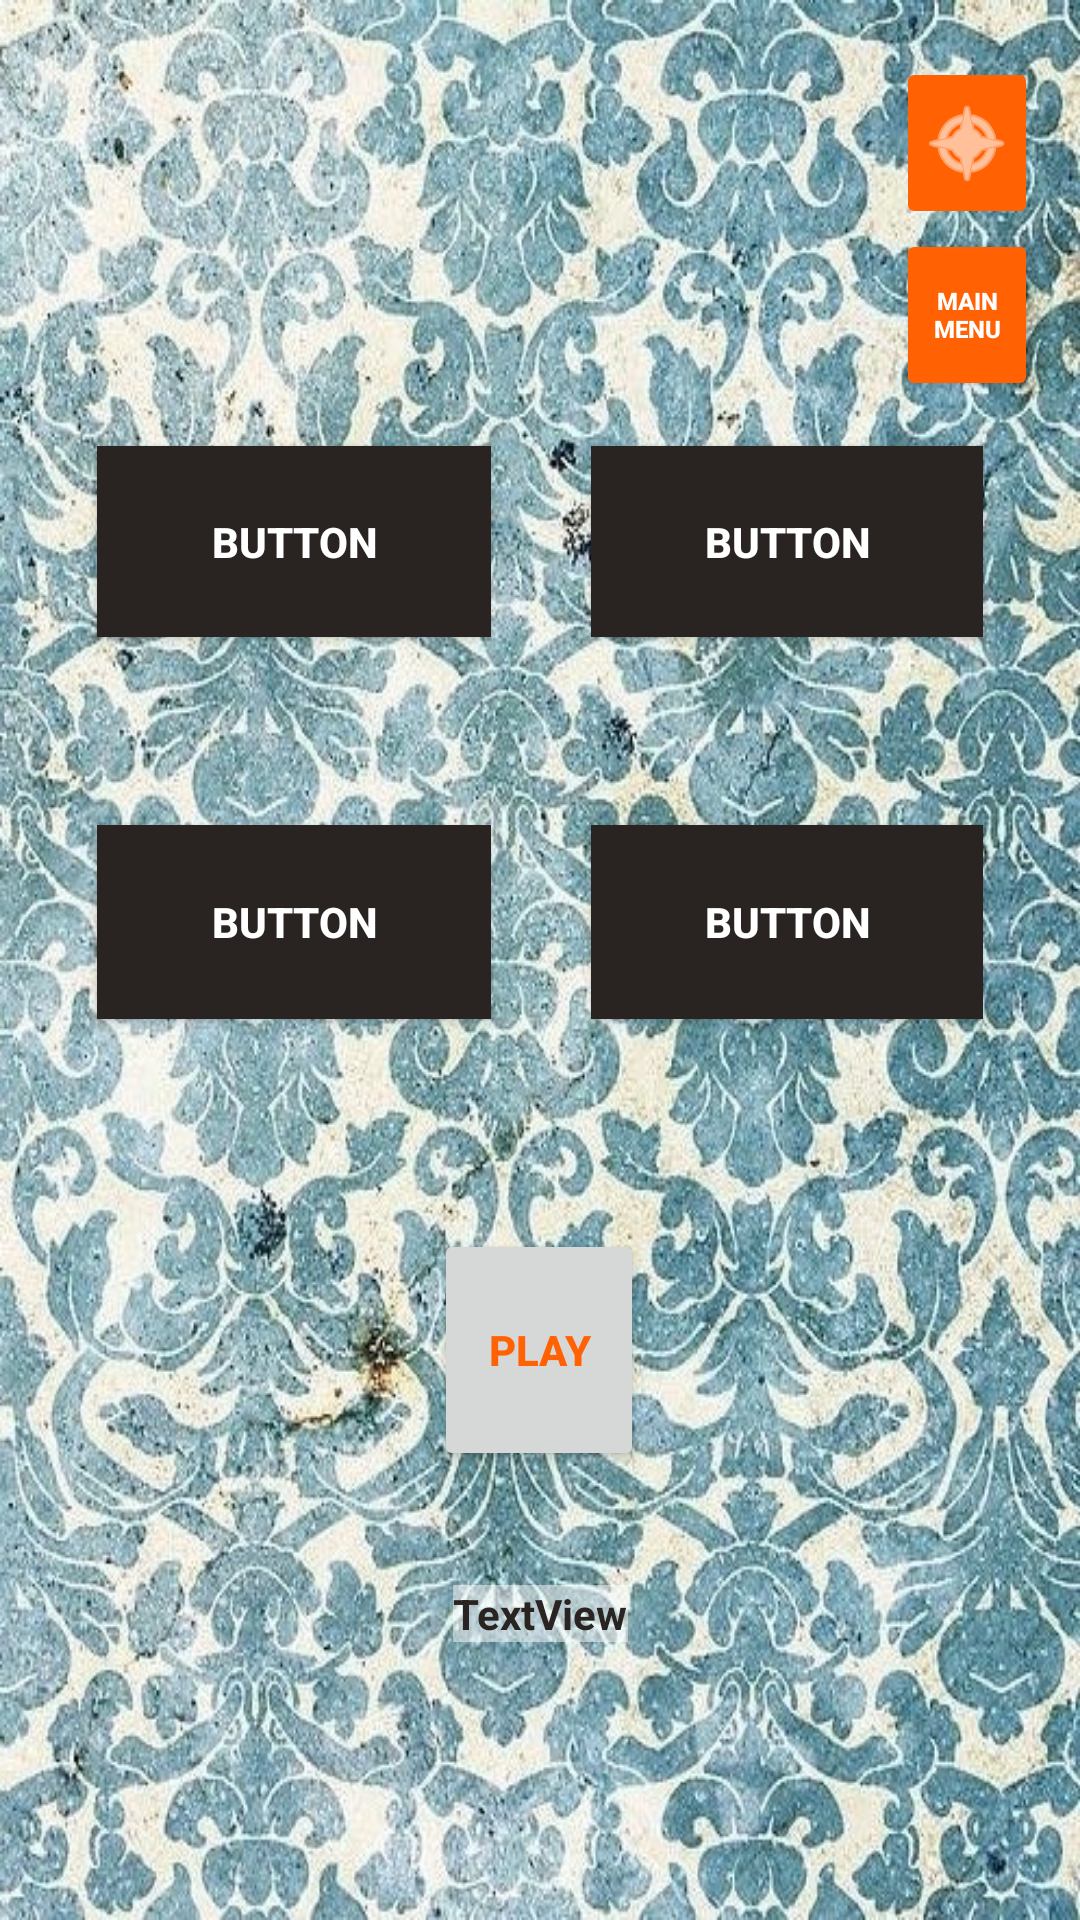

Icons on this 1080px×1920px Android screen, each with the point to tap as (x=x, y=y):
compass: (x=967, y=143)
